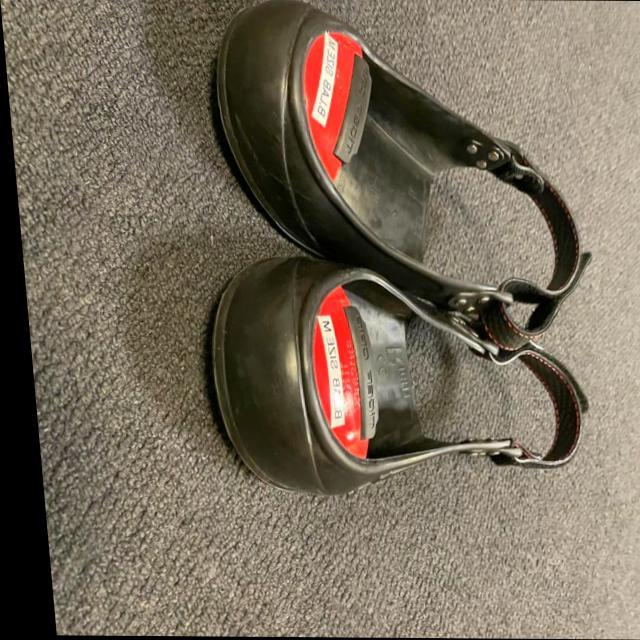shoes: (184, 2, 584, 332), (196, 251, 574, 494)
